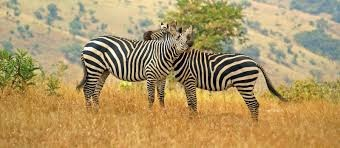zebra: (143, 25, 290, 128), (72, 28, 198, 111)
